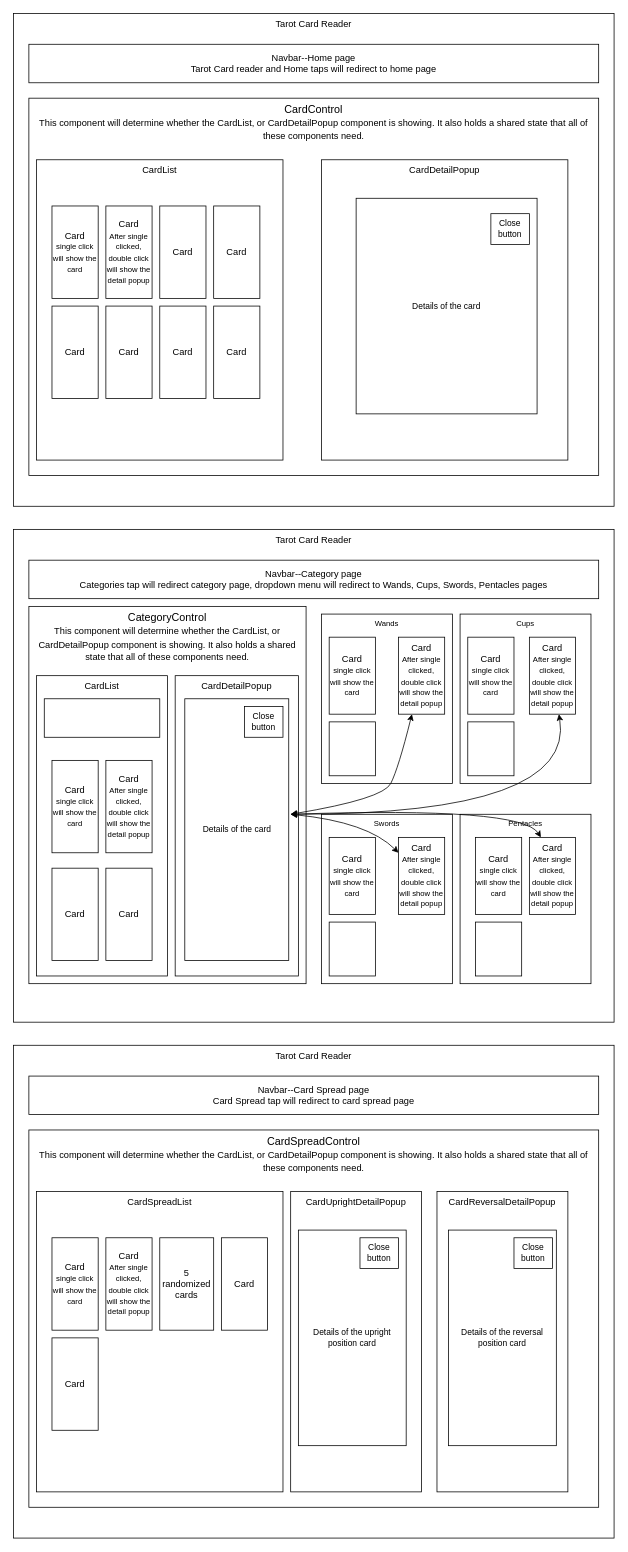
Some shapes in this 628 by 1552 pixel diagram are drawn without their labels. The centre of each missing label's shape, as x and y in pixels:
"Buttons Switch between different suits of cards" goes at [102,717].
"Cups card suits" goes at [490,748].
"Pentacles card suits" goes at [498,948].
"Swords card suits" goes at [351,948].
"Wands card suits" goes at [351,748].
